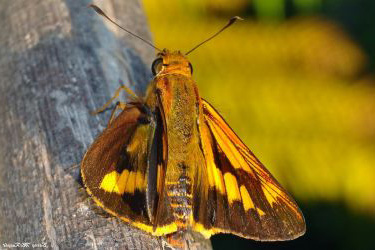Agape chloropyga: (81, 4, 312, 240)
moth: (81, 4, 312, 240)
